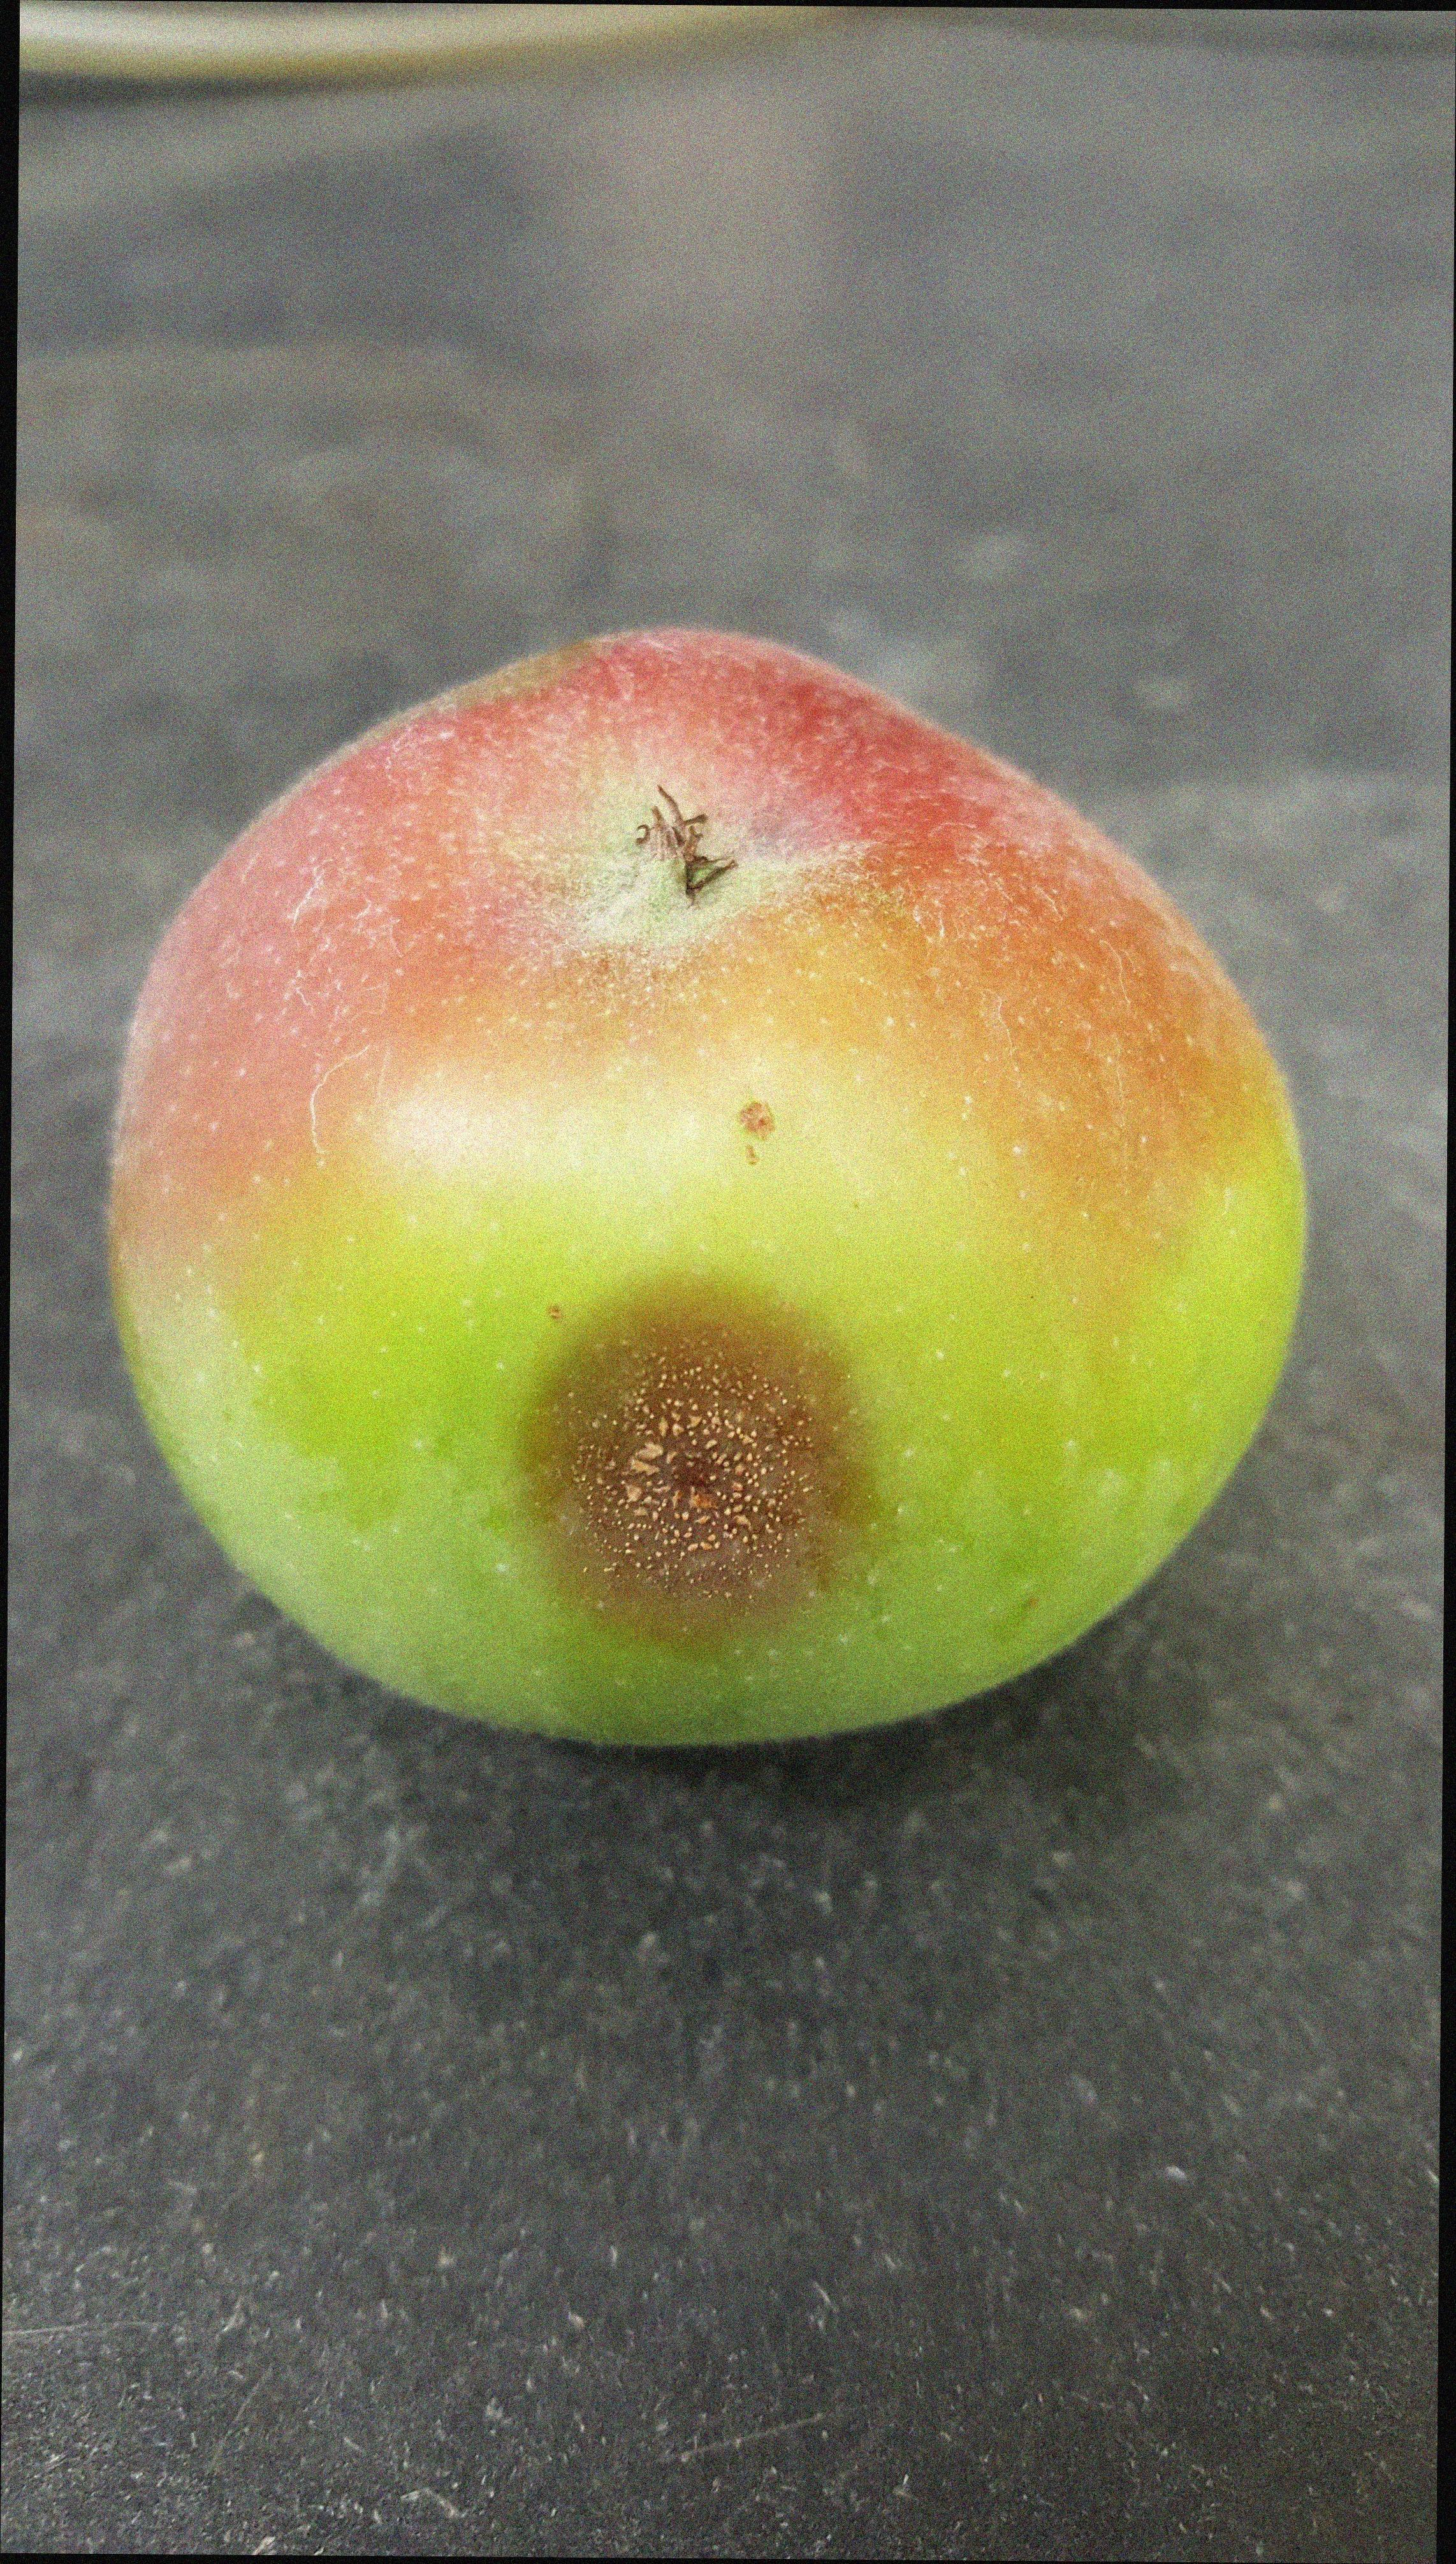rotten apple: (95, 625, 1320, 1779)
